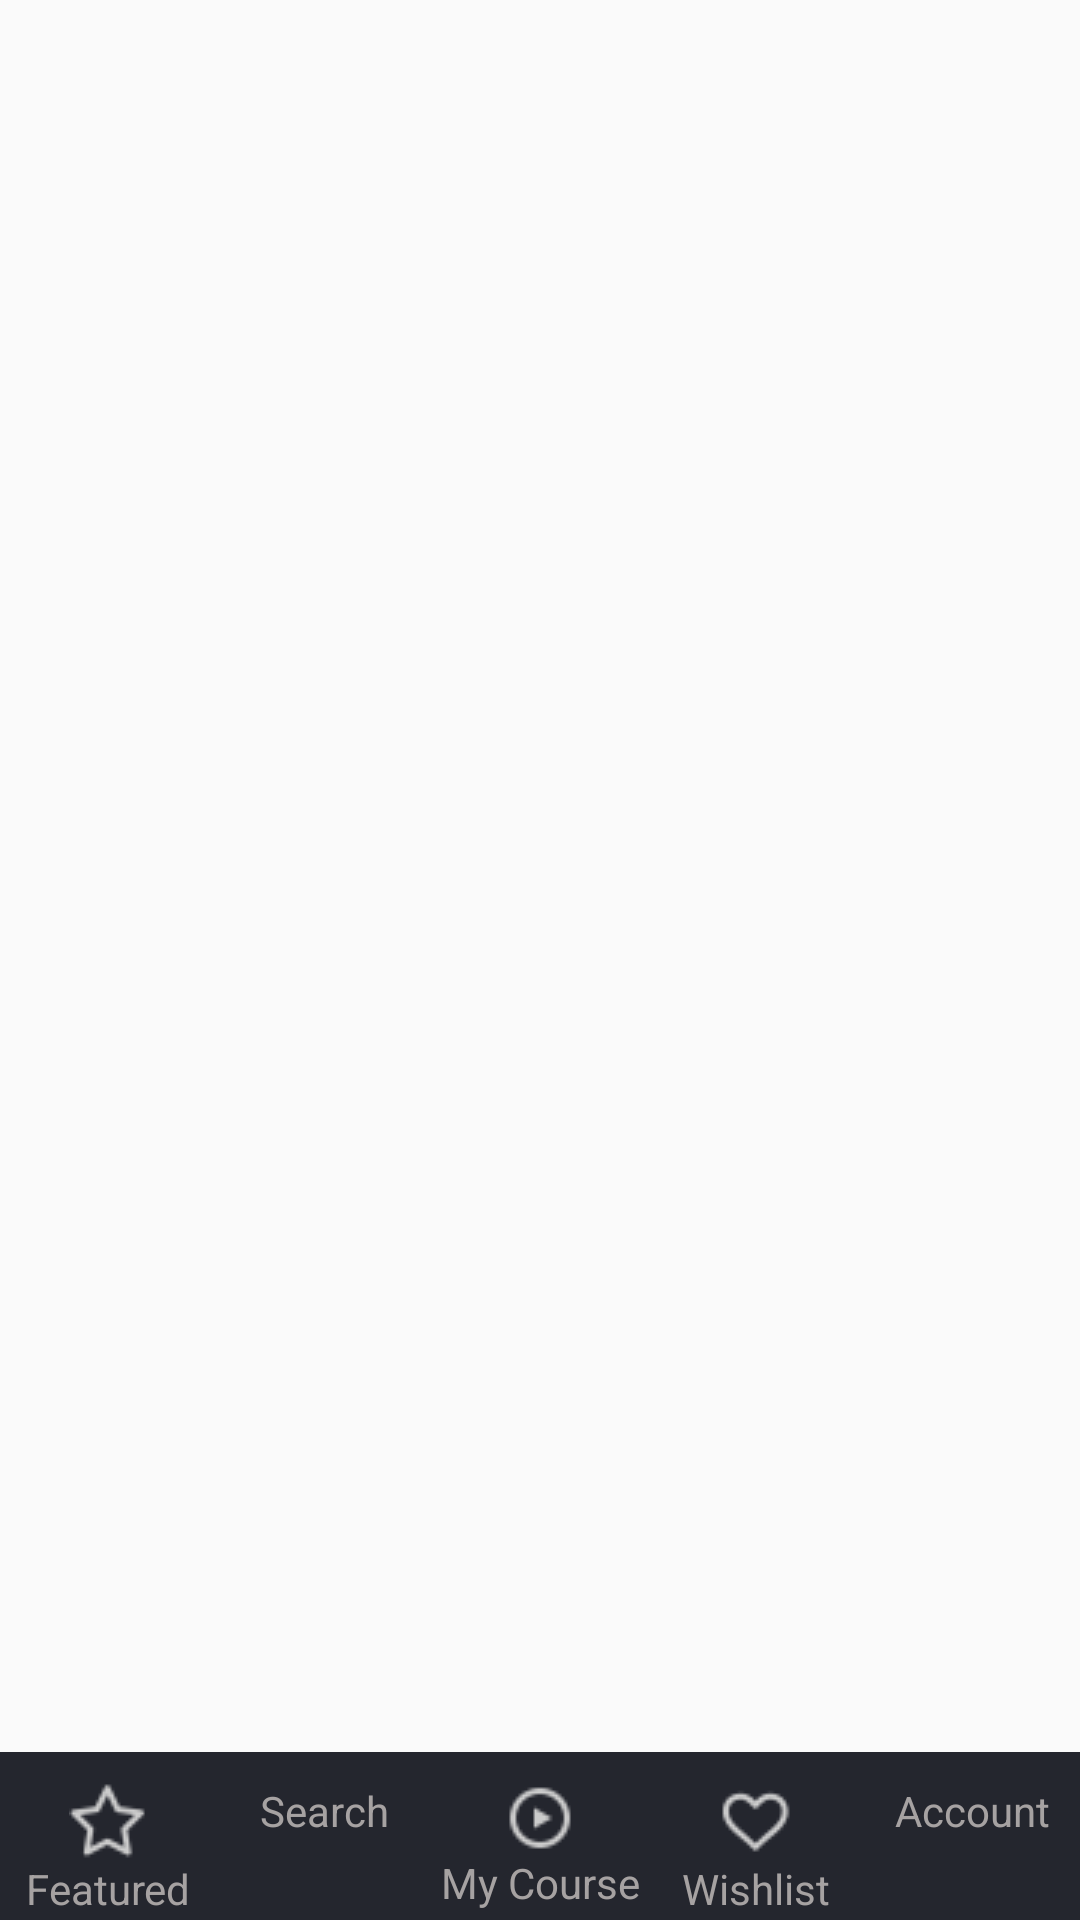

Screen size 1080px x 1920px. Icon name, then its box in pixels as (x1, y1, x2, y2):
heart: (722, 1792, 790, 1852)
play: (509, 1787, 571, 1849)
